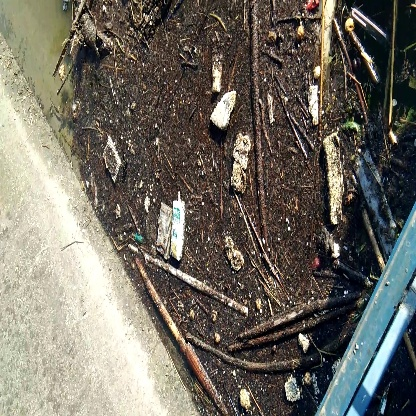branch: (140, 264, 240, 416)
milk-box: (169, 188, 197, 261)
